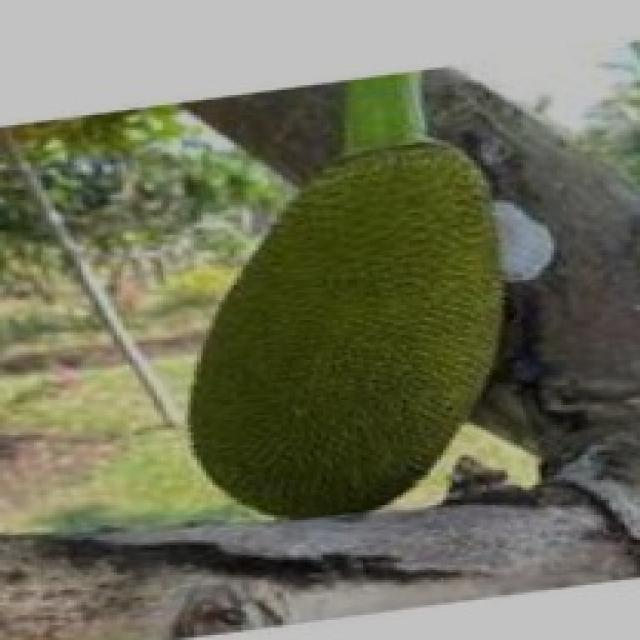Fruit: (153, 123, 544, 525)
